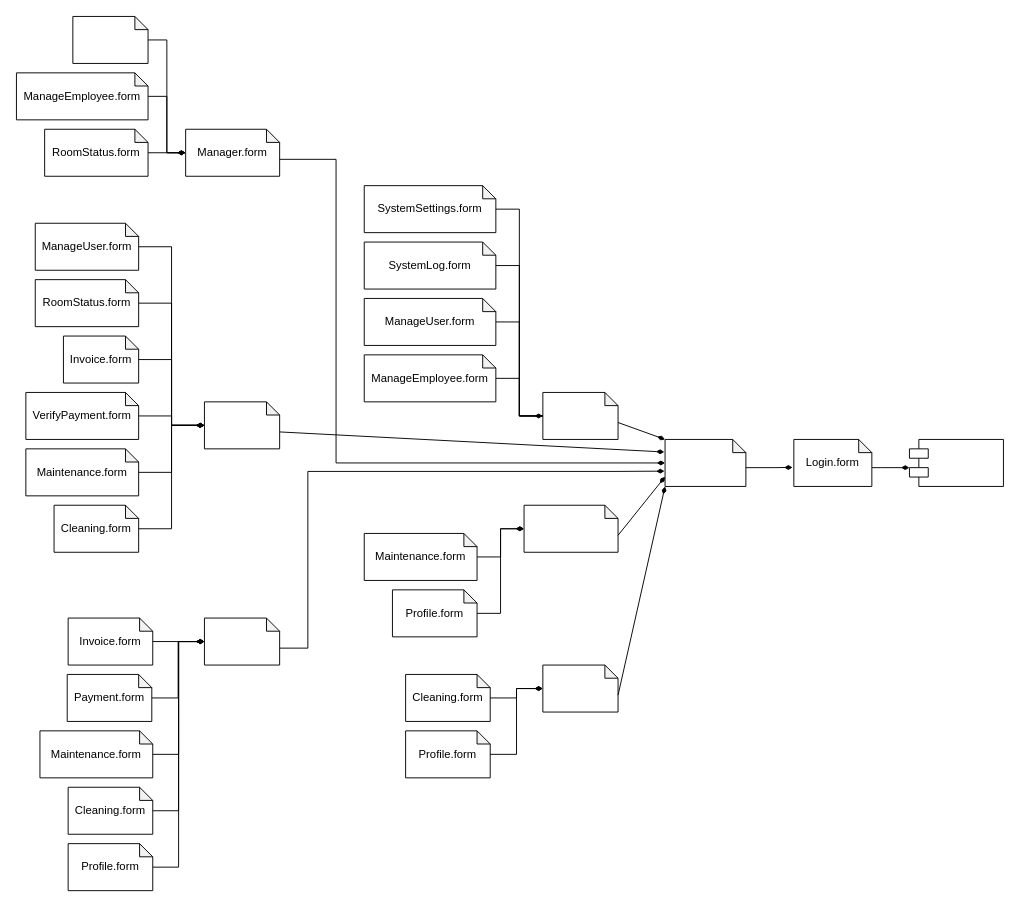
The diagram is 1020 pixels wide and 907 high, and some of its shapes have lost their labels. The centre of each missing label's shape, as x and y in pixels:
"Admin.form" goes at point (580, 415).
"Cleaner.form" goes at point (580, 688).
"Index.form" goes at point (705, 462).
"Report.form" goes at point (110, 39).
"Staff.form" goes at point (242, 425).
"System.exe" goes at point (956, 462).
"Technician.form" goes at point (570, 528).
"Tenant.form" goes at point (242, 641).
